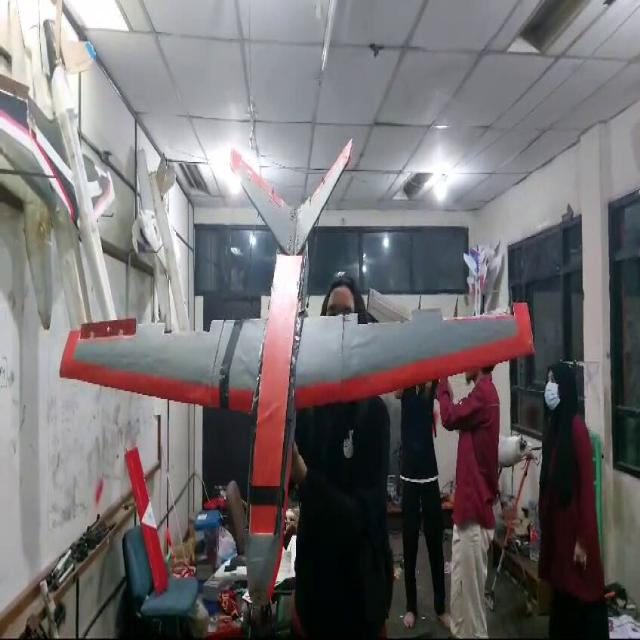plane: (58, 136, 535, 634)
